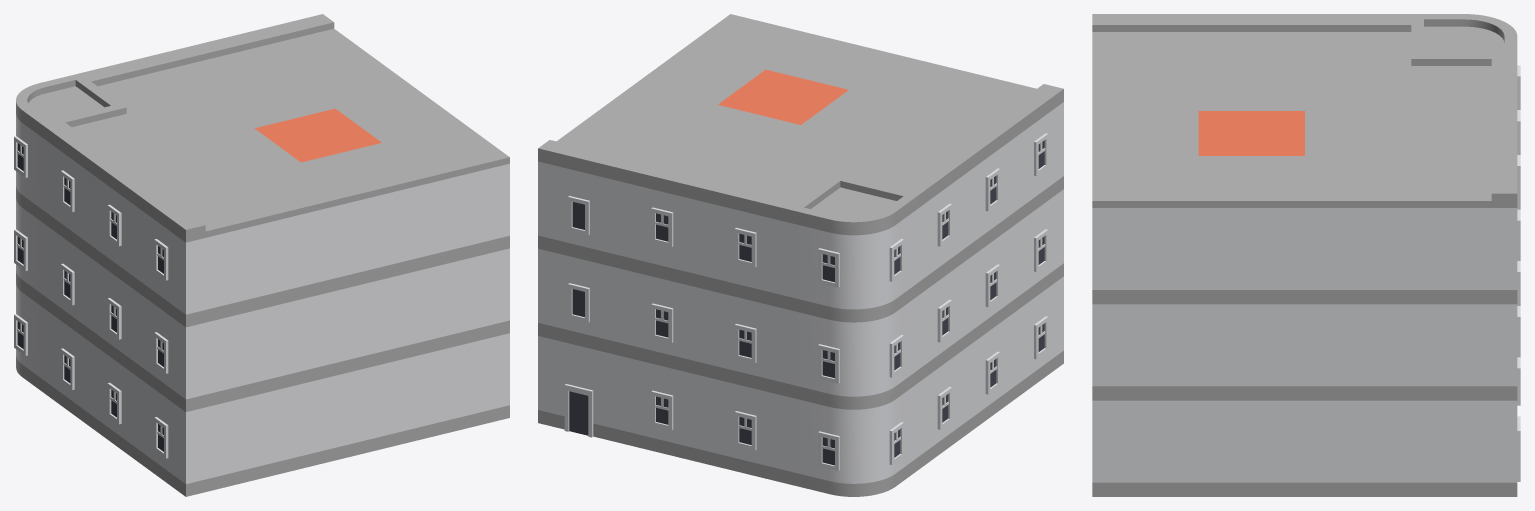
Rendered from ImmeubleCoinNormalGris.fbx.
3 views of the same model, side by side, from view 1: azimuth 30°, elevation 25°; view 2: azimuth 150°, elevation 25°; view 3: azimuth 270°, elevation 25° (orthographic). The views are drawn at different scales.
Visible parts, largest first — view 1: roof_flat_largeSide_201, block_126, block_157, block_148, roof_flat_largeSide_166, roof_flat_largeSide_167, roof_flat_largeSide_168, block_123, block_146, block_154, block_147, block_152 (+18 smaller); view 2: roof_flat_largeSide_201, block_corner_round_small_197, block_corner_round_small_198, block_corner_round_small_199, roof_flat_largeSide_166, roof_flat_largeSide_167, block_134, block_163, block_119, block_135, block_118, block_162 (+33 smaller); view 3: roof_flat_largeSide_201, roof_flat_largeSide_166, block_123, block_136, block_137, block_144, block_145, block_152, block_117, block_121, block_122, block_149 (+9 smaller).
Part boxes in pixels (x1,y1,x2,y2): roof_flat_largeSide_201: (45, 106, 347, 242); block_126: (139, 378, 266, 496); block_157: (139, 208, 266, 327); block_148: (139, 293, 266, 411); roof_flat_largeSide_166: (242, 14, 415, 108); roof_flat_largeSide_167: (161, 34, 334, 128); roof_flat_largeSide_168: (80, 53, 253, 147); block_123: (429, 333, 509, 437); block_146: (348, 268, 428, 372); block_154: (267, 203, 347, 307); block_147: (267, 288, 347, 392); block_152: (429, 163, 509, 267); roof_flat_largeSide_201: (753, 54, 1063, 206); block_corner_round_small_197: (788, 382, 919, 496); block_corner_round_small_198: (788, 295, 919, 409); block_corner_round_small_199: (788, 208, 919, 322); roof_flat_largeSide_166: (538, 84, 717, 181); roof_flat_largeSide_167: (621, 105, 800, 201); block_134: (704, 289, 787, 396); block_163: (704, 202, 787, 309); block_119: (704, 376, 787, 483); block_135: (621, 269, 704, 376); block_118: (621, 356, 704, 463); block_162: (621, 182, 704, 289); roof_flat_largeSide_201: (1092, 14, 1411, 110); roof_flat_largeSide_166: (1305, 148, 1517, 207); block_123: (1092, 400, 1198, 496); block_136: (1411, 304, 1517, 400); block_137: (1305, 304, 1411, 400); block_144: (1198, 304, 1304, 400); block_145: (1092, 304, 1198, 400); block_152: (1092, 208, 1198, 304); block_117: (1411, 400, 1517, 496); block_121: (1305, 400, 1411, 496); block_122: (1198, 400, 1304, 496); block_149: (1411, 208, 1517, 304).
Bounding box in the file's own units: 40.3 × 31.5 × 40.3.
